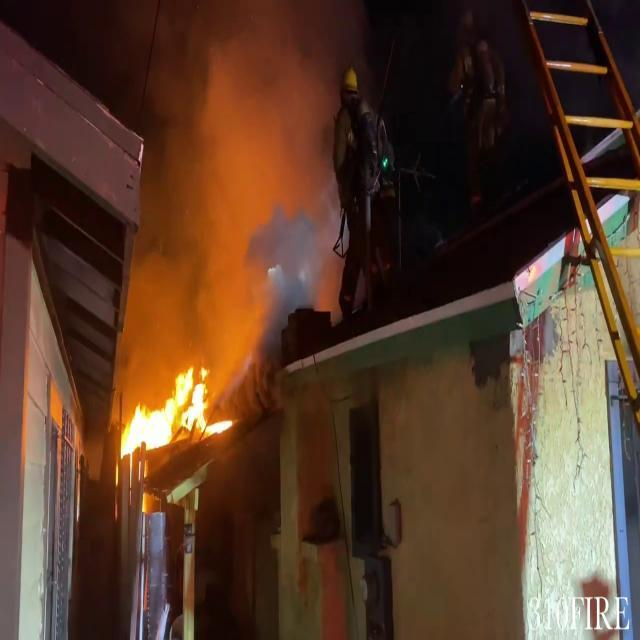Fire: (114, 356, 230, 466)
Smoke: (107, 0, 366, 374)
